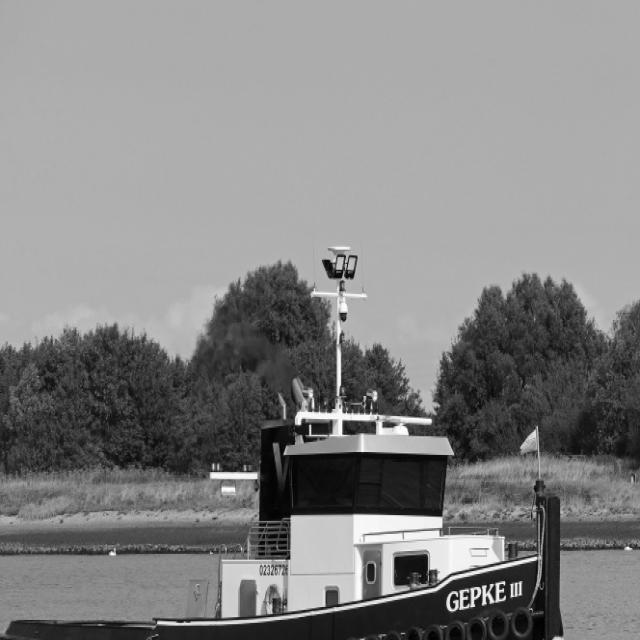tugboat: (1, 240, 571, 640)
